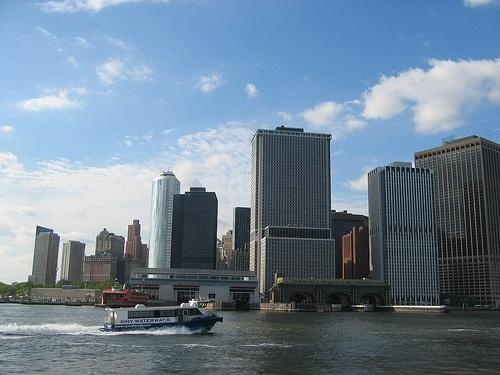boat: (104, 302, 224, 338)
